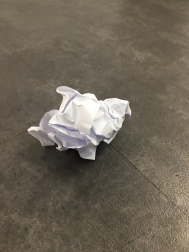paper_brown: (25, 79, 141, 165)
